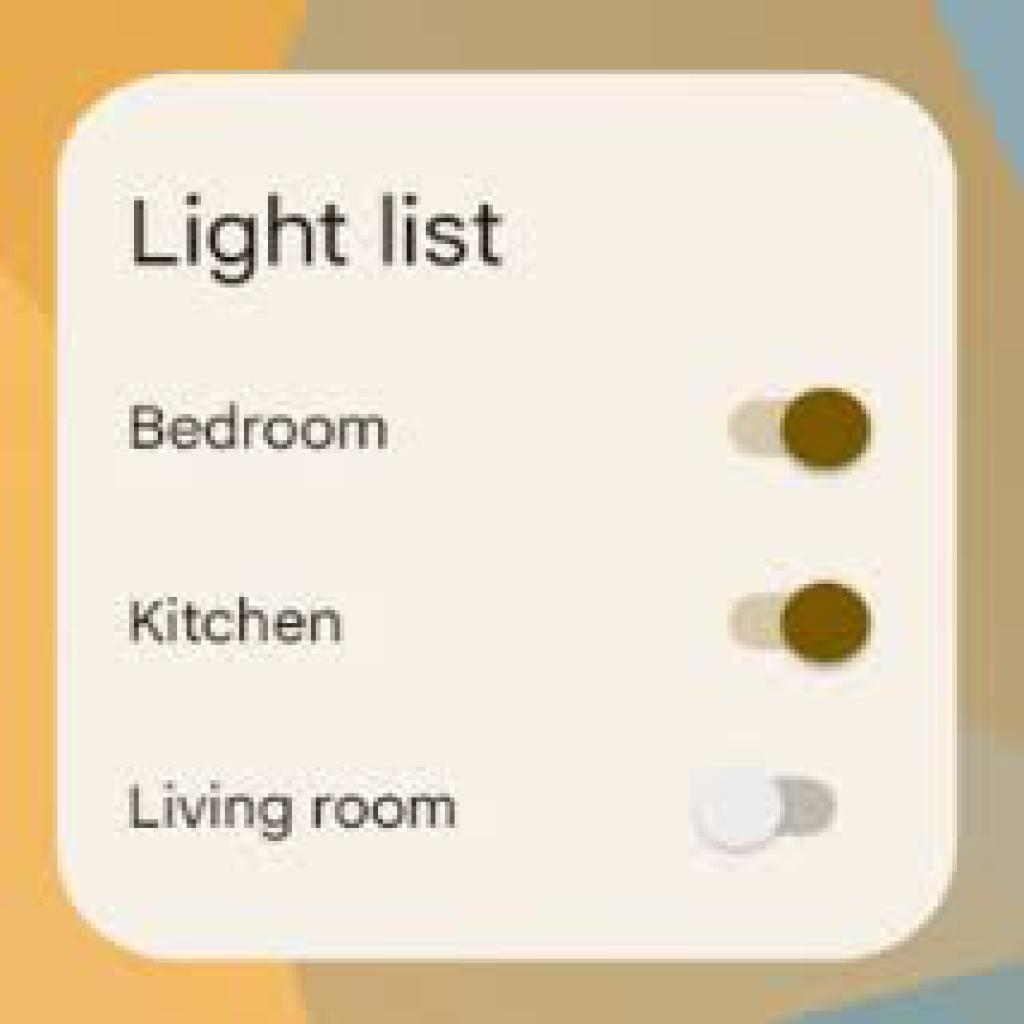label: (121, 191, 506, 283), (126, 773, 459, 843), (124, 399, 394, 457), (124, 593, 351, 652)
switch: (726, 570, 878, 676), (724, 383, 881, 484), (691, 763, 847, 853)
